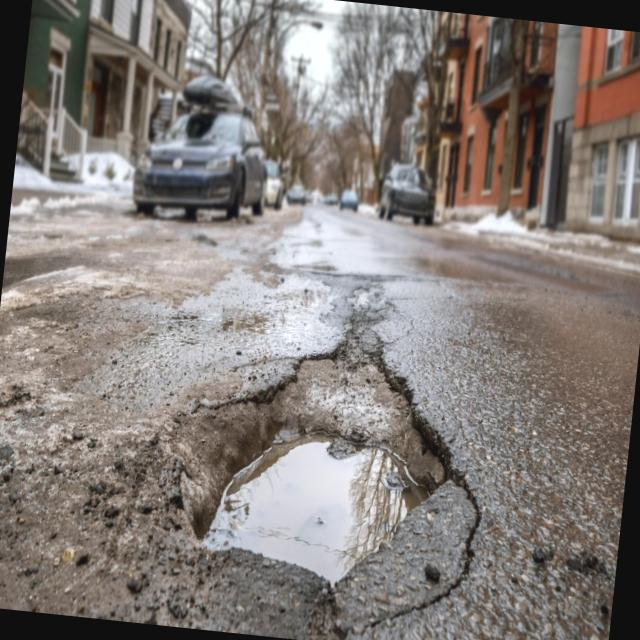bad-road: (148, 328, 468, 640)
